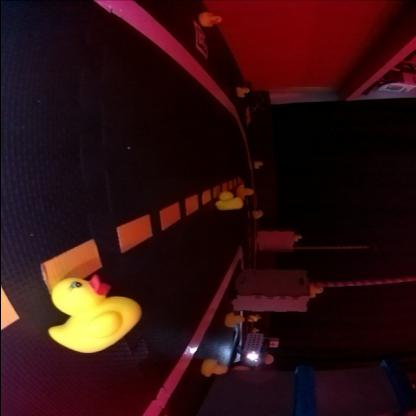Duckie: (49, 280, 141, 354), (216, 192, 243, 210), (202, 362, 226, 378), (200, 13, 222, 27), (226, 314, 245, 328), (237, 185, 253, 201), (235, 87, 250, 98), (252, 211, 264, 219), (254, 161, 262, 169)
Duckiebot: (231, 334, 268, 371)
QR code: (194, 26, 208, 58)
